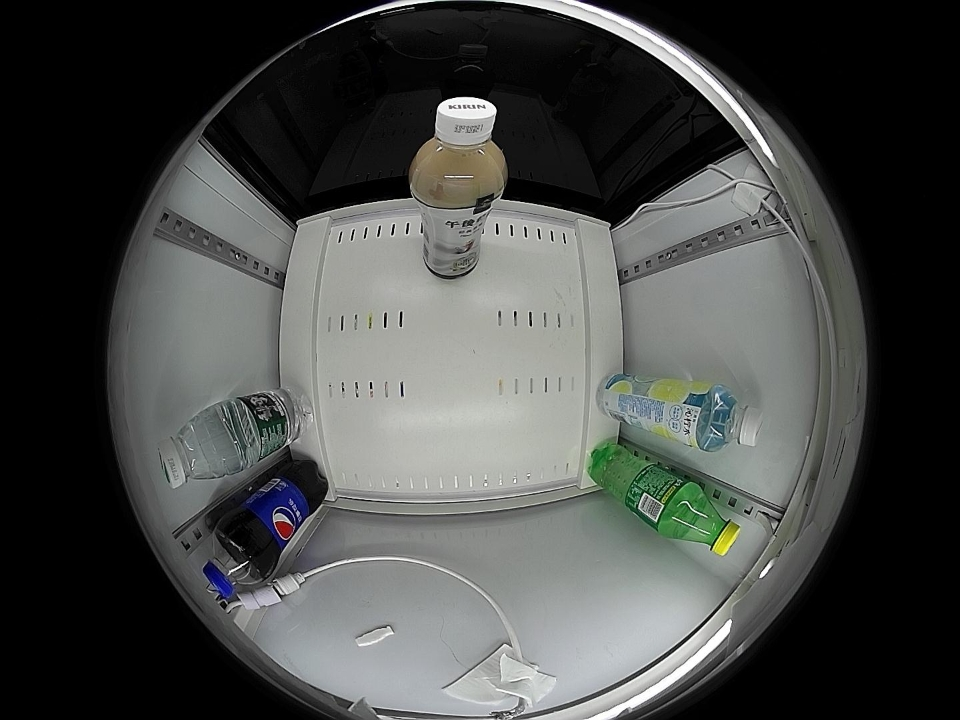baishikele-2: (202, 523, 270, 599)
qinningshui: (690, 384, 765, 453)
wuhounaicha: (410, 96, 507, 208)
xuebi-b: (667, 485, 742, 558)
yibao: (156, 404, 243, 489)
